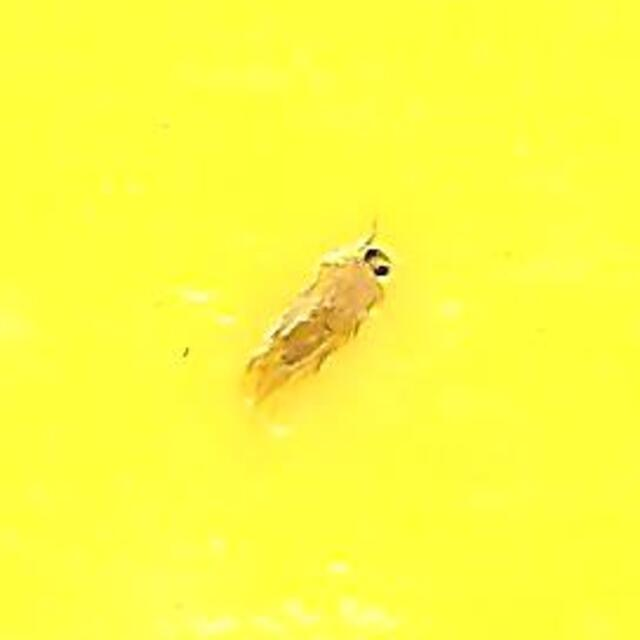Trichoptera: (235, 240, 405, 400)
